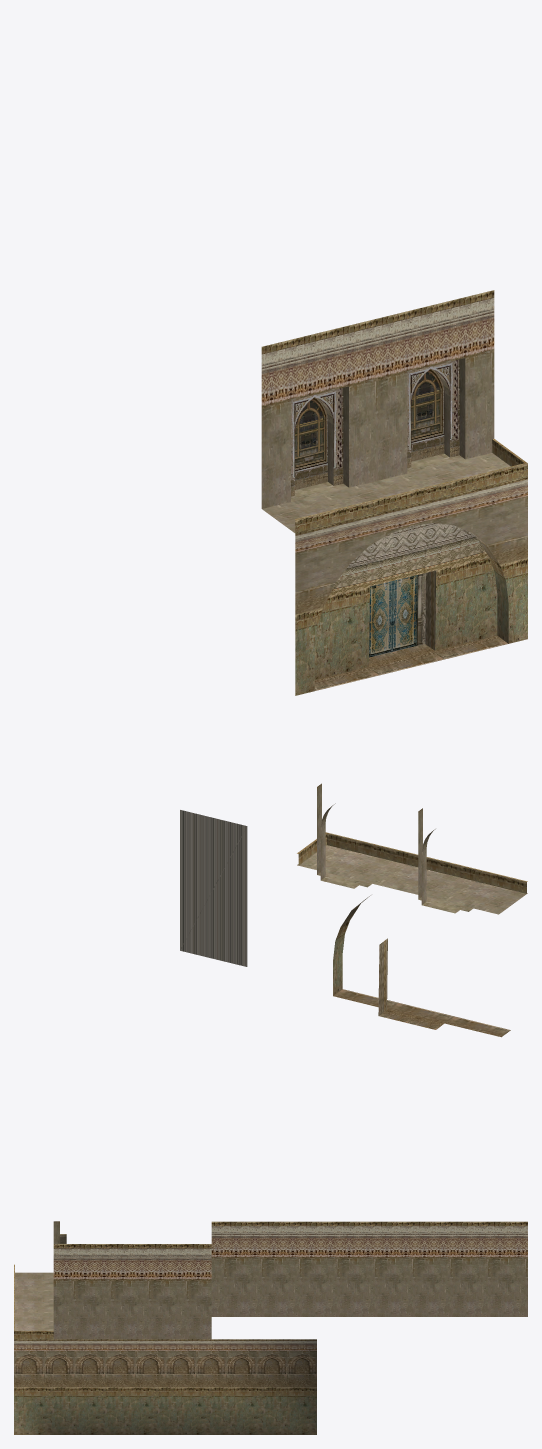
Rendered from M7Z2_WallSection2C.glb.
3 renders of one model, top to bottom at view 1: azimuth 30°, elevation 25°; view 2: azimuth 150°, elevation 25°; view 3: azimuth 270°, elevation 25°, orthographic. The views are drawn at different scales.
Parts seen in each view (by area): view 1: M7Z2_WALLSECTION2C; view 2: M7Z2_WALLSECTION2C; view 3: M7Z2_WALLSECTION2C.
Part boxes in pixels (bbox=[...]): M7Z2_WALLSECTION2C: bbox=[261, 290, 527, 695]; M7Z2_WALLSECTION2C: bbox=[180, 783, 527, 1037]; M7Z2_WALLSECTION2C: bbox=[14, 1221, 527, 1434].
Bounding box in the file's own units: 12 × 16.02 × 39.
7 materials, 7 textured.
